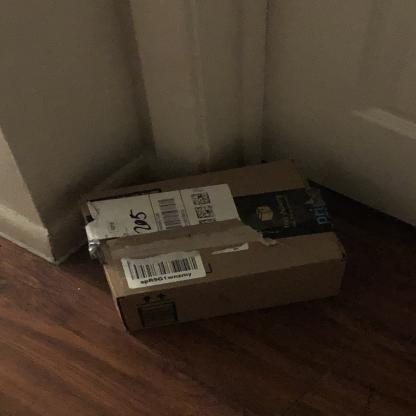package: (75, 156, 349, 338)
